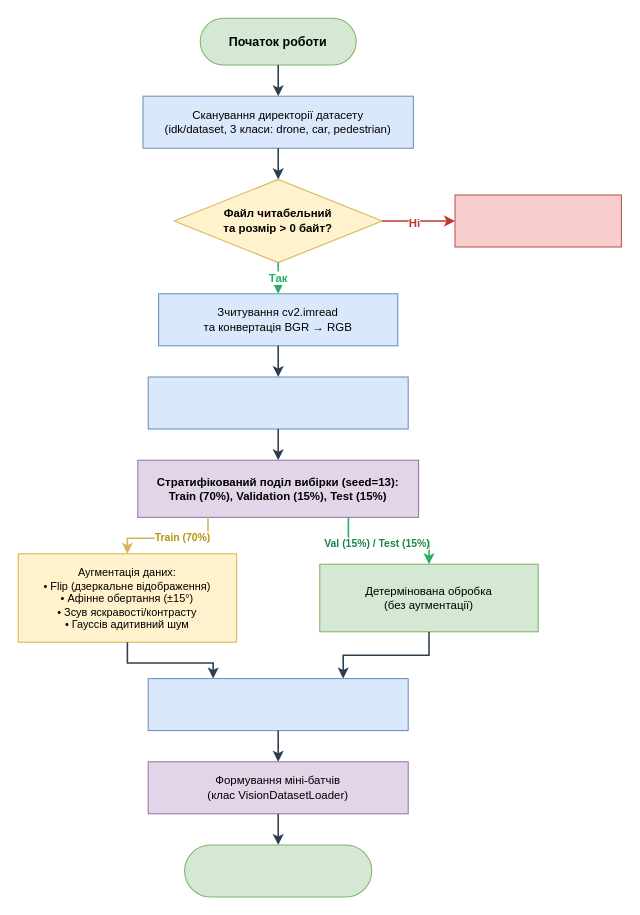
This 640x915 diagram has some shape labels left out. The shapes that lost their labels are listed below. From the top down, each one's centre as x and y in pixels, then its label:
At [537,220]: "Вилучення файлу та логування дефекту".
At [277,402]: "Letterbox-масштабування (224×224) зі збереженням співвідношення сторін".
At [277,704]: "Нормалізація [0, 1] та стандартизація (ImageNet mean & std)".
At [278,870]: "Кінець: Готові тензори для ЛР №2".
